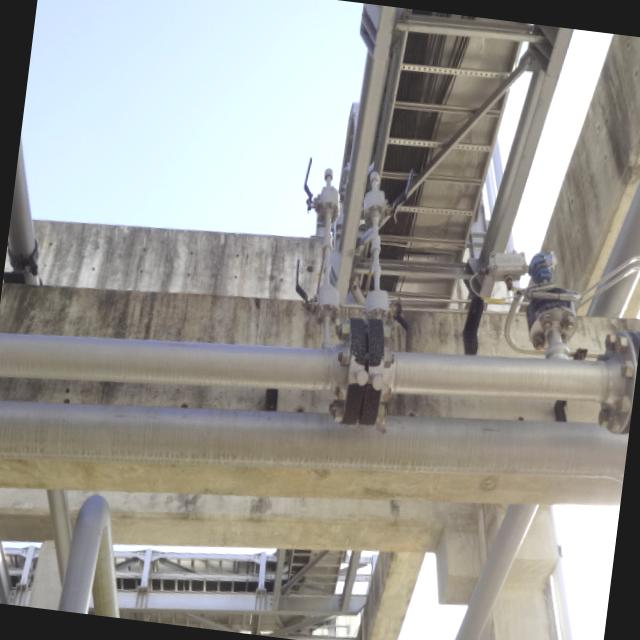gas: (0, 337, 631, 543), (0, 253, 640, 448), (57, 495, 119, 618), (9, 123, 41, 281)
